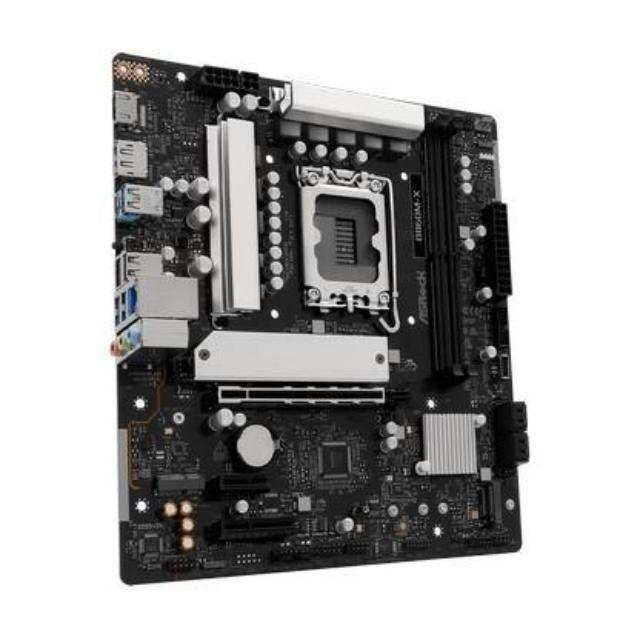Mainboard: (109, 52, 528, 584)
